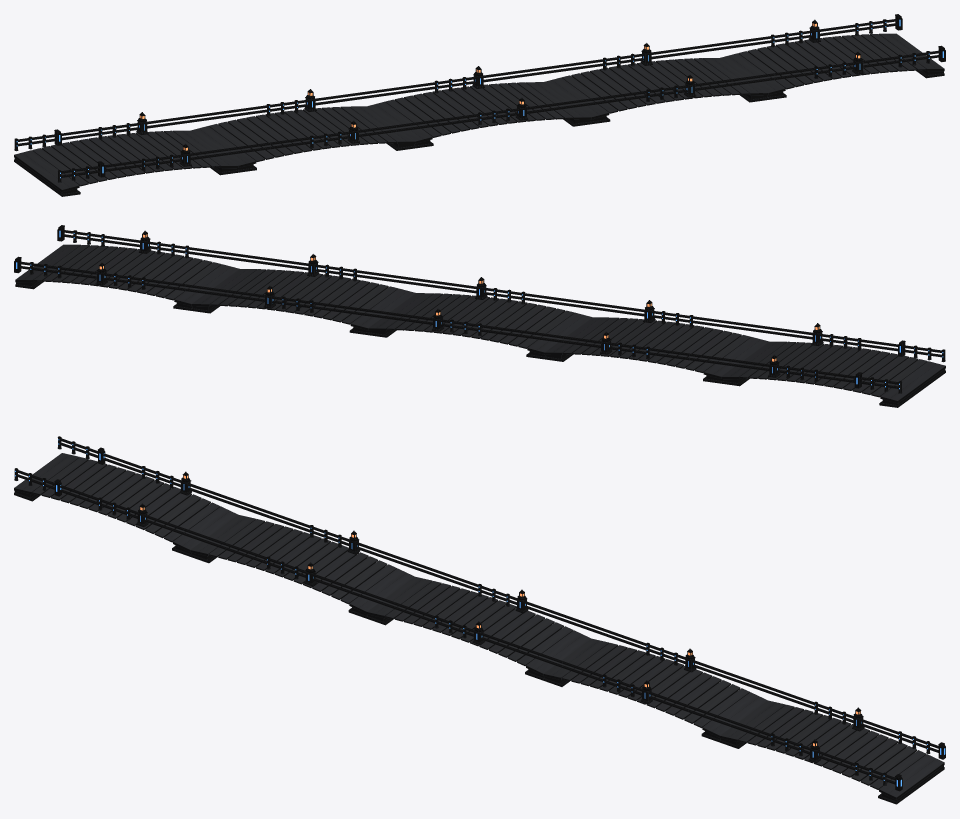
Rendered from bridge_workshop_garage.glb.
3 renders of one model, top to bottom at view 1: azimuth 30°, elevation 25°; view 2: azimuth 150°, elevation 25°; view 3: azimuth 330°, elevation 25°, orthographic.
Visible parts, largest first — view 1: bridge; view 2: bridge; view 3: bridge.
Boxes of the visible parts, x1,y1,x2,y2 form: bridge: (14,14,945,196); bridge: (14,225,945,407); bridge: (14,436,945,804).
Size of the model in its own units: 21.28 by 2.73 by 2.
5 materials, 3 textured.
